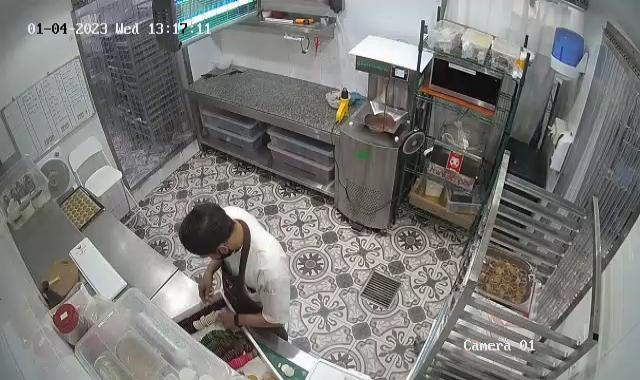no_hairnet: (178, 200, 238, 258)
